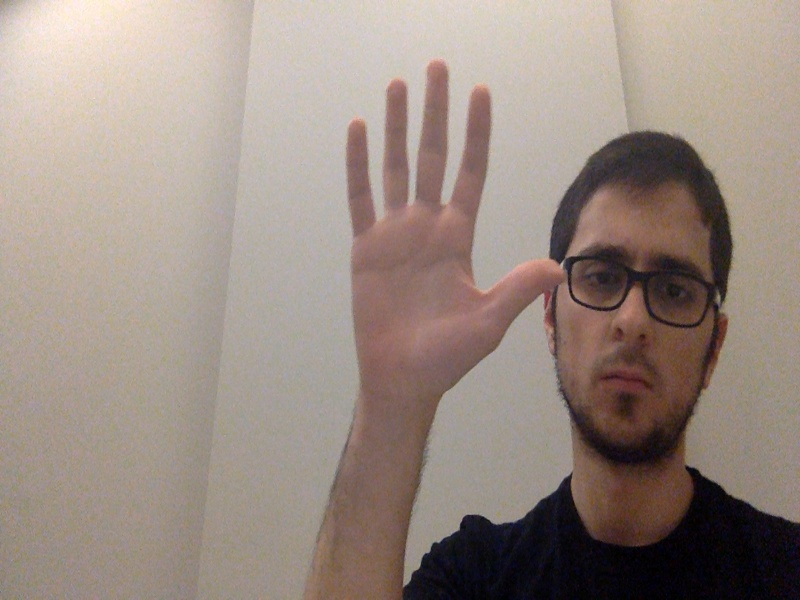5-hand: (342, 58, 567, 403)
